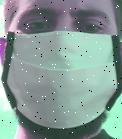with_mask: (2, 1, 122, 139)
